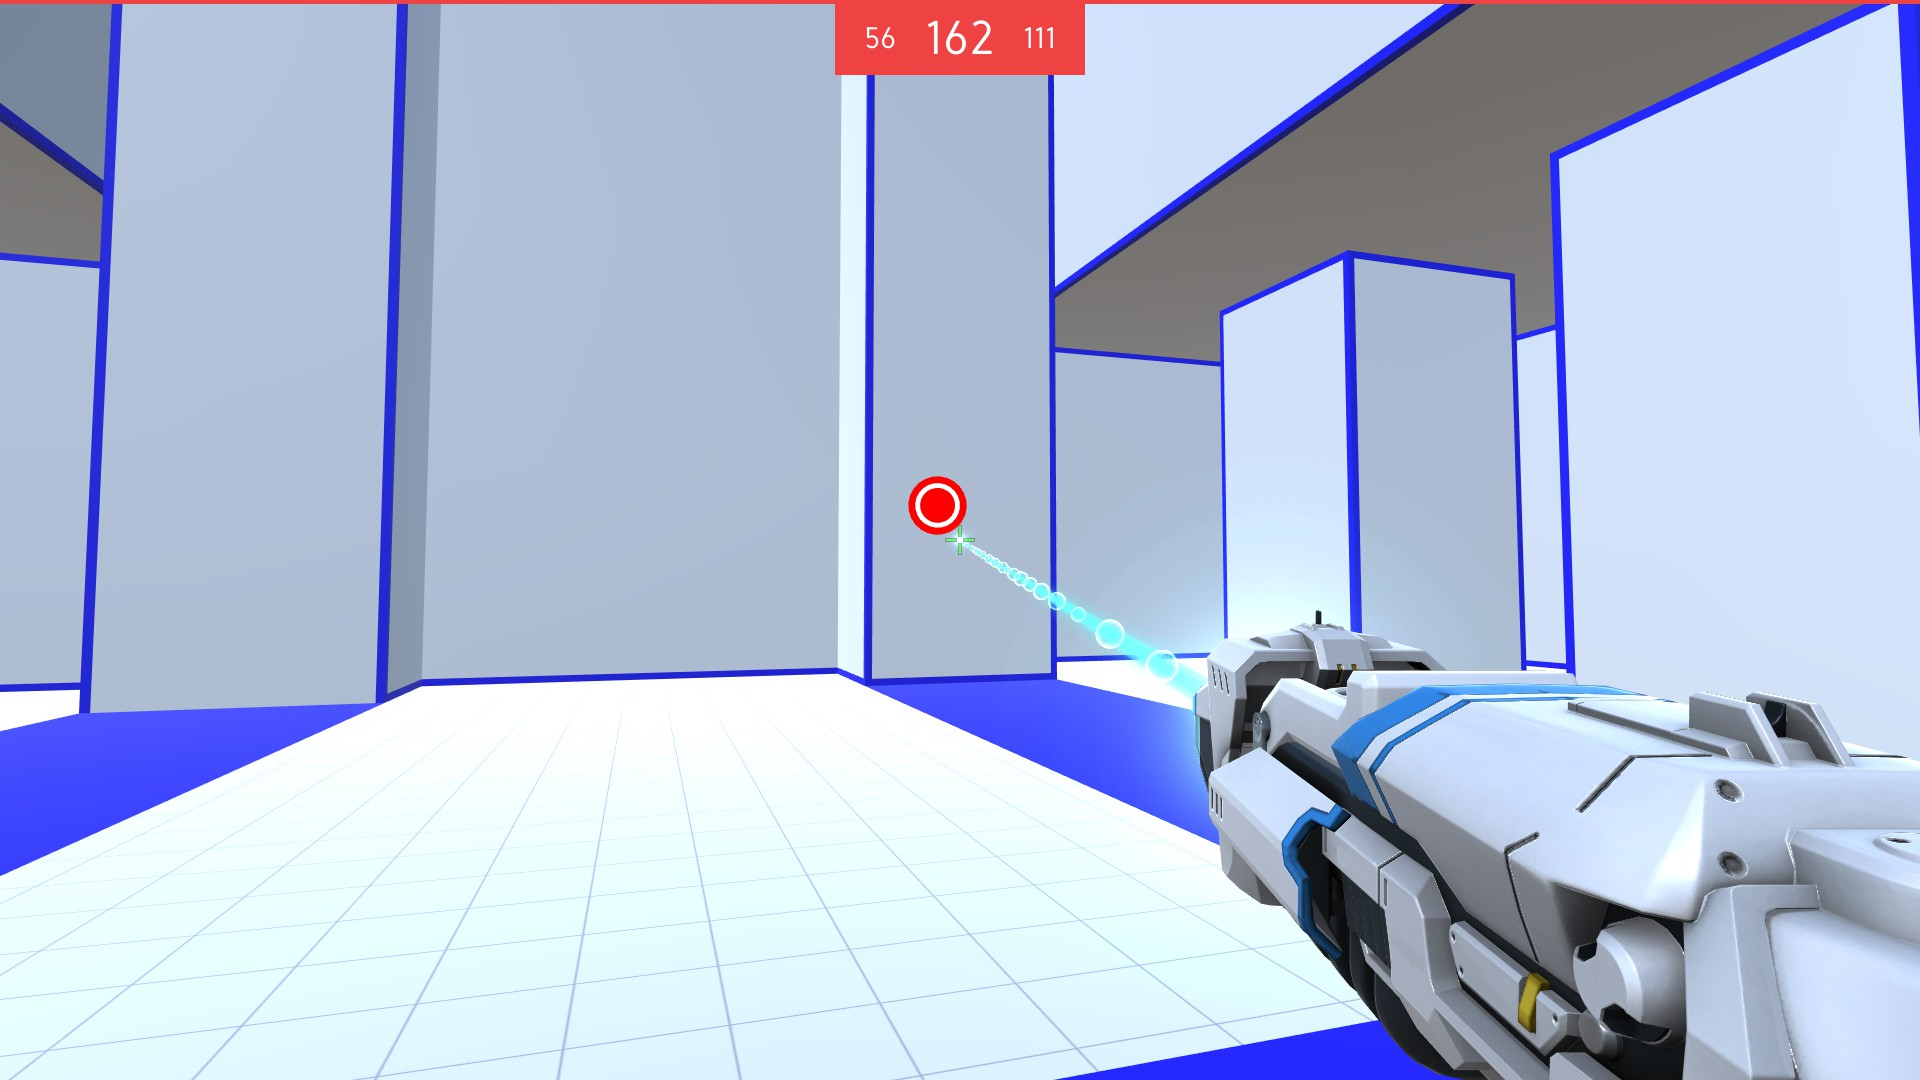target: (905, 475, 972, 537)
